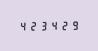four: (17, 20, 26, 31), (48, 20, 57, 30)
nine: (68, 19, 77, 30)
three: (38, 20, 47, 31)
two: (27, 20, 36, 31), (58, 19, 67, 30)
